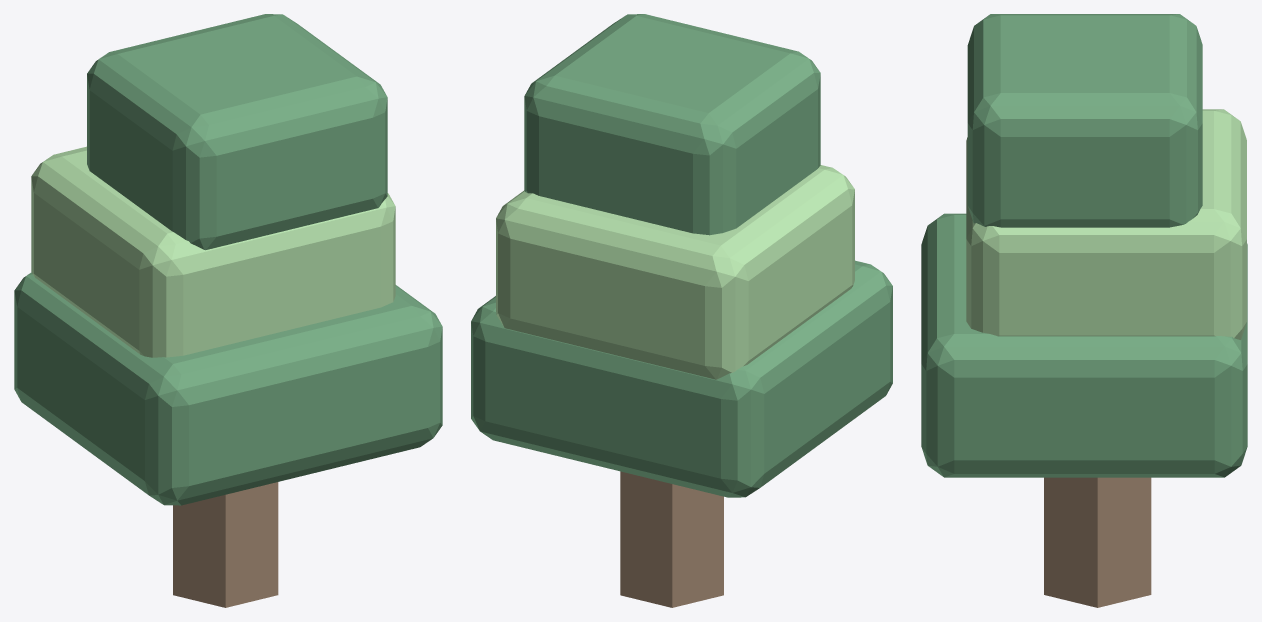
The model's file is tree_b.glb.
The picture shows the model from 3 angles, left to right: view 1: azimuth 30°, elevation 25°; view 2: azimuth 150°, elevation 25°; view 3: azimuth 270°, elevation 25°; orthographic projection. The views are drawn at different scales.
Visible parts, largest first — view 1: canopy_0_m0, canopy_2_m0, canopy_1_m0, trunk_m0; view 2: canopy_0_m0, canopy_2_m0, canopy_1_m0, trunk_m0; view 3: canopy_0_m0, canopy_2_m0, canopy_1_m0, trunk_m0.
Part boxes in pixels (box(x1,y1,x2,y2)): canopy_0_m0: box(14, 272, 442, 505); canopy_2_m0: box(87, 14, 387, 250); canopy_1_m0: box(31, 146, 395, 357); trunk_m0: box(173, 482, 278, 607); canopy_0_m0: box(471, 260, 892, 497); canopy_2_m0: box(524, 14, 820, 235); canopy_1_m0: box(496, 165, 854, 379); trunk_m0: box(620, 471, 723, 607); canopy_0_m0: box(921, 213, 1247, 477); canopy_2_m0: box(967, 14, 1202, 227); canopy_1_m0: box(966, 109, 1246, 339); trunk_m0: box(1044, 477, 1151, 607).
Bounding box in the file's own units: 1.09 × 1.84 × 1.03.
